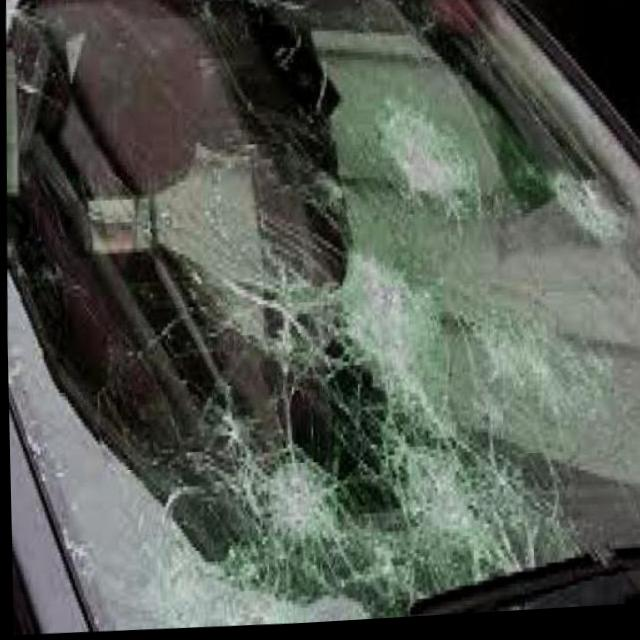Car-Damage: (66, 190, 624, 637), (367, 100, 477, 230), (539, 155, 634, 267)
